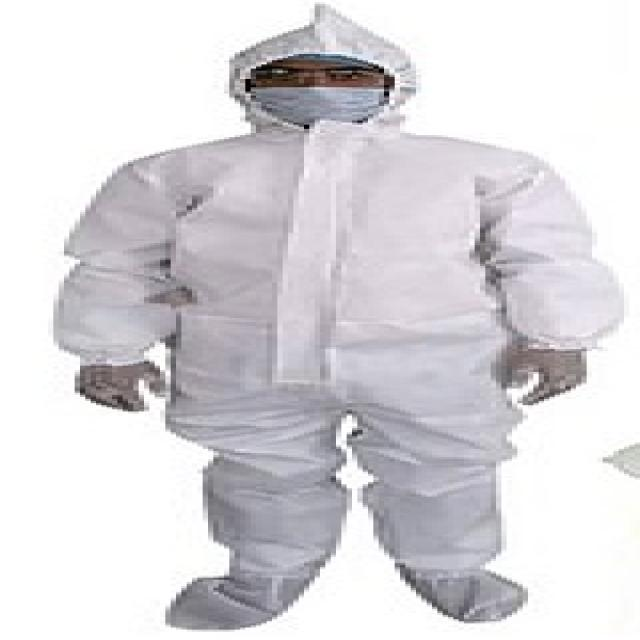Coverall: (32, 0, 635, 640)
Goggles: (219, 56, 400, 92)
Mask: (214, 73, 486, 137)
